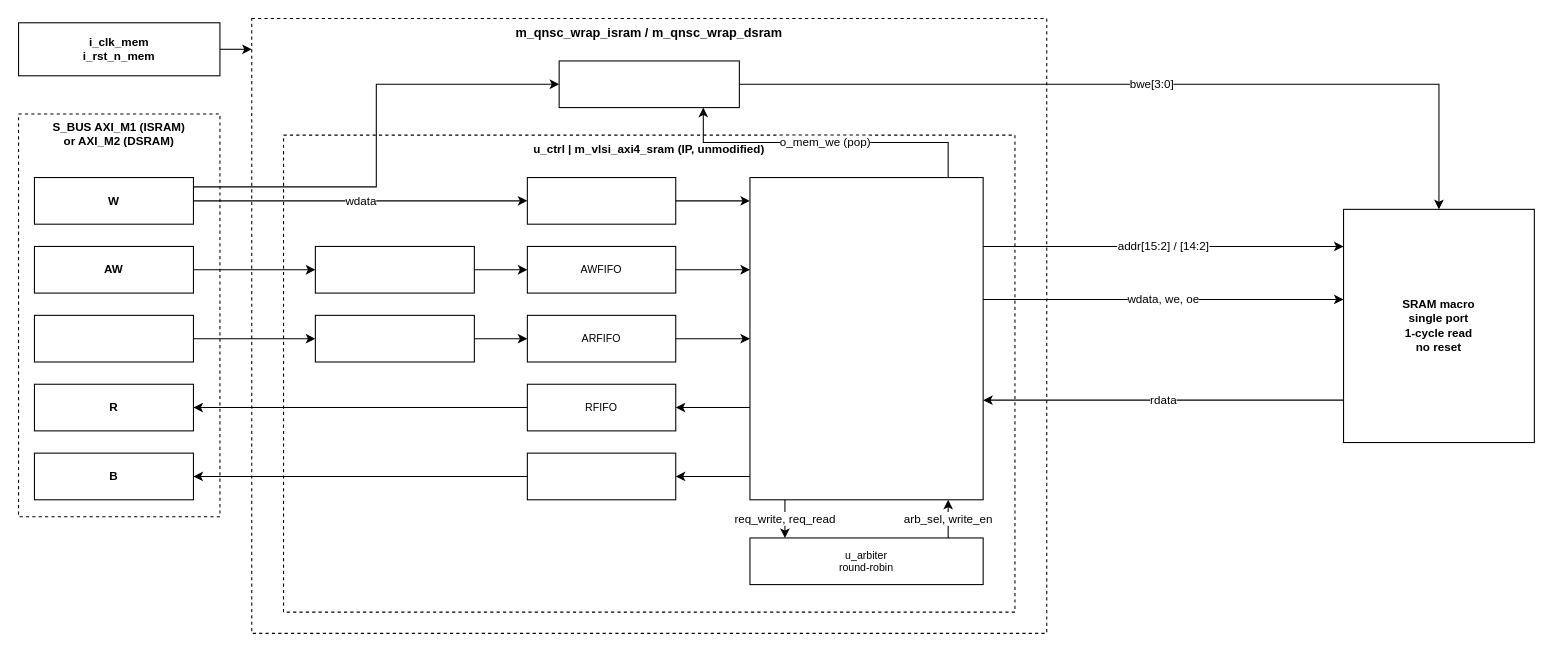
The diagram is 1553 pixels wide and 652 high, and some of its shapes have lost their labels. The shapes that lost their labels are listed below. From the top down, each one's centre as x and y in pixels, then its label:
At point 648,84: "u_strbfifo wstrb, 4 bit x 8".
At point 601,200: "WFIFO".
At point 394,269: "u_axfsm_wr".
At point 113,338: "AR".
At point 394,338: "u_axfsm_rd".
At point 866,338: "u_sram_misc FIFO pop, SRAM mux R and B generation".
At point 601,476: "BFIFO".
